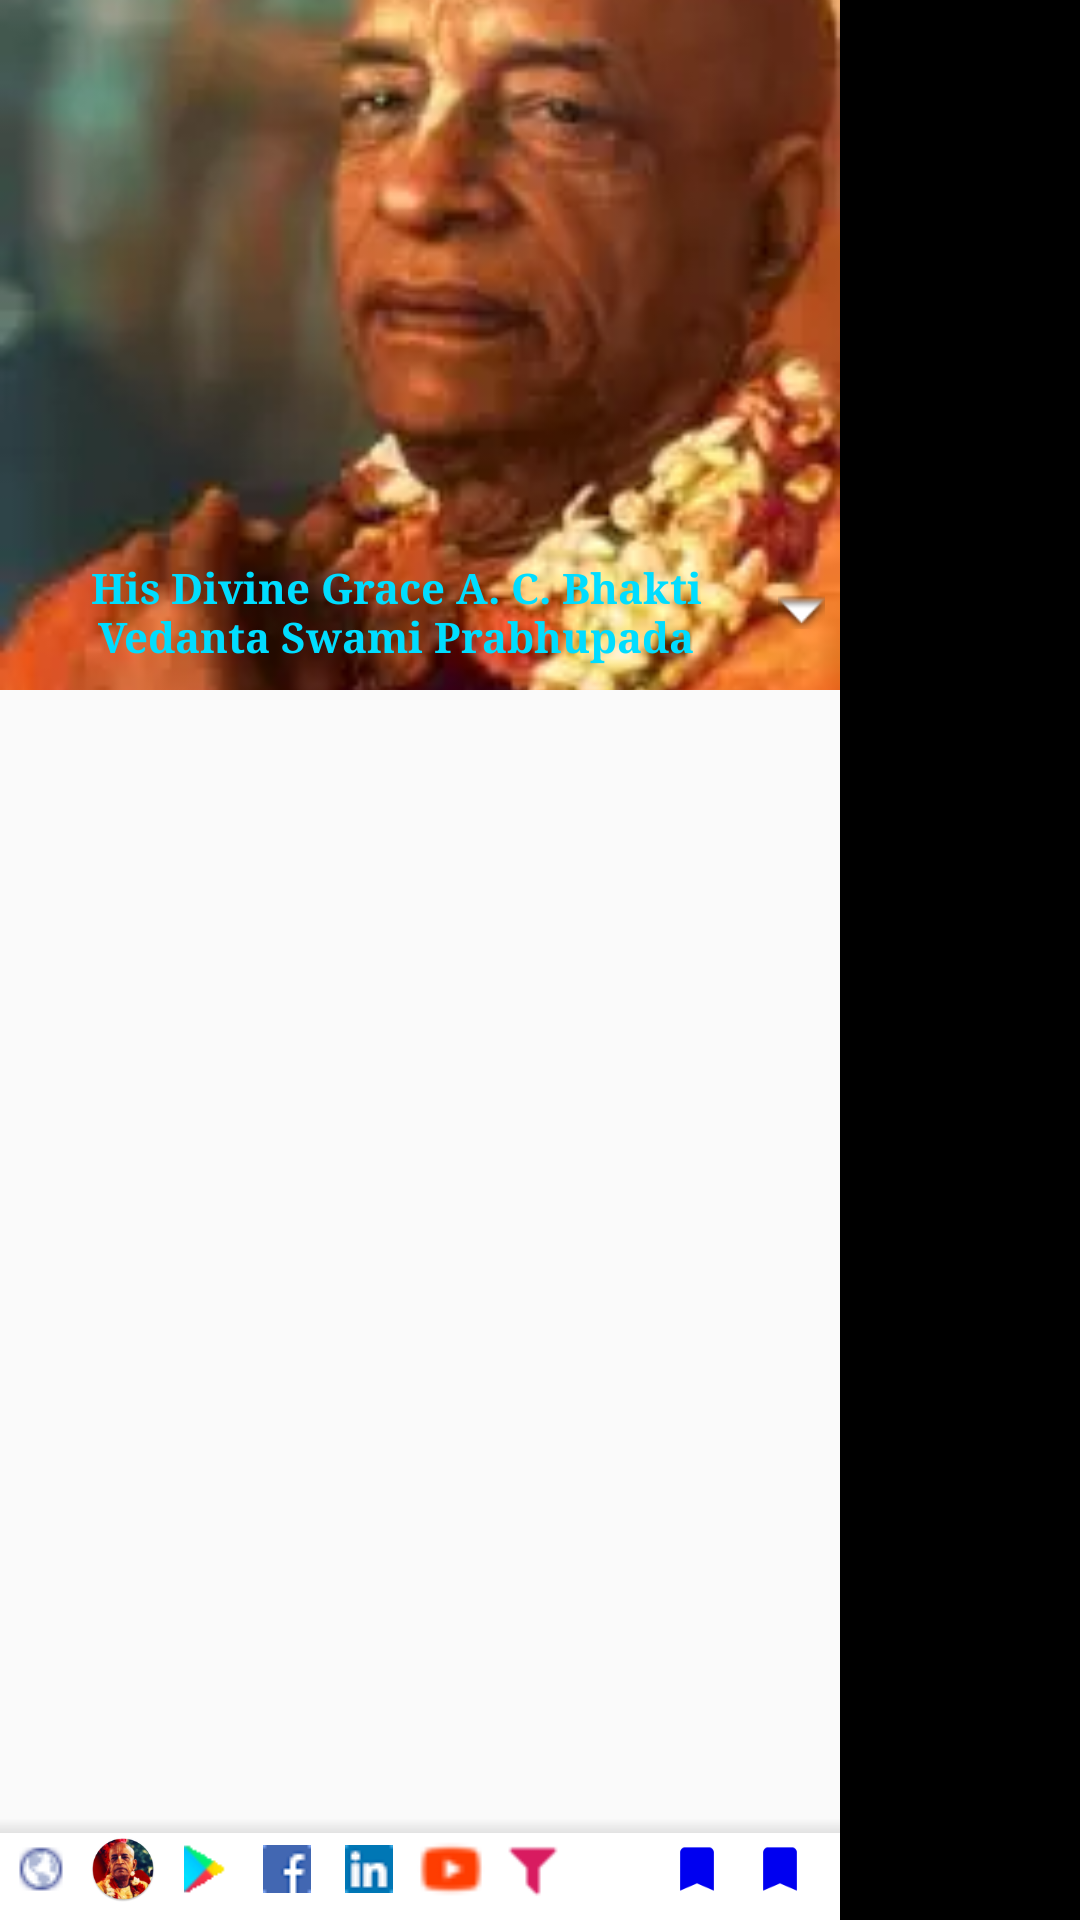

Icon bounding boxes for this 1080*1920 phone screenshot, format (x1, y1, x2, y2):
web: (19, 1847, 63, 1891)
